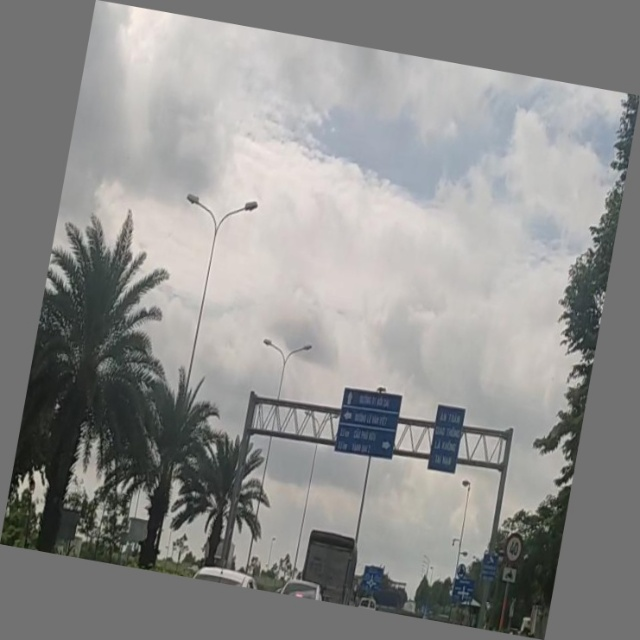P.127*40: (502, 530, 526, 566)
S.505a*Xe may: (499, 563, 518, 585)
